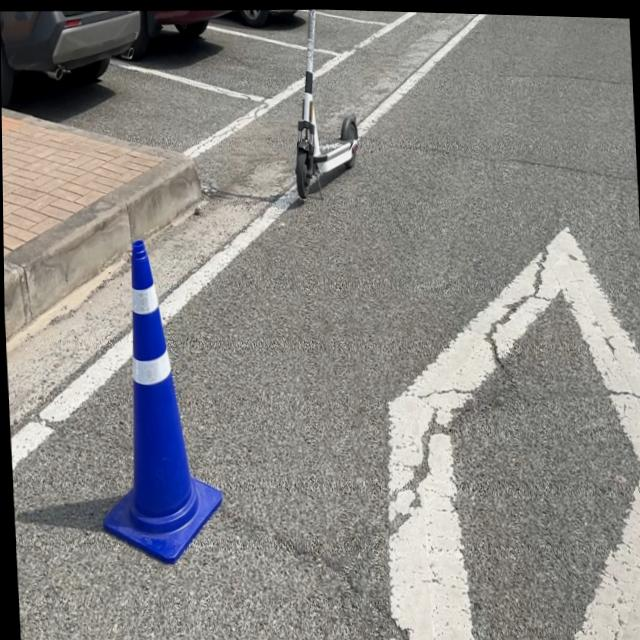b_rub: (101, 237, 220, 562)
